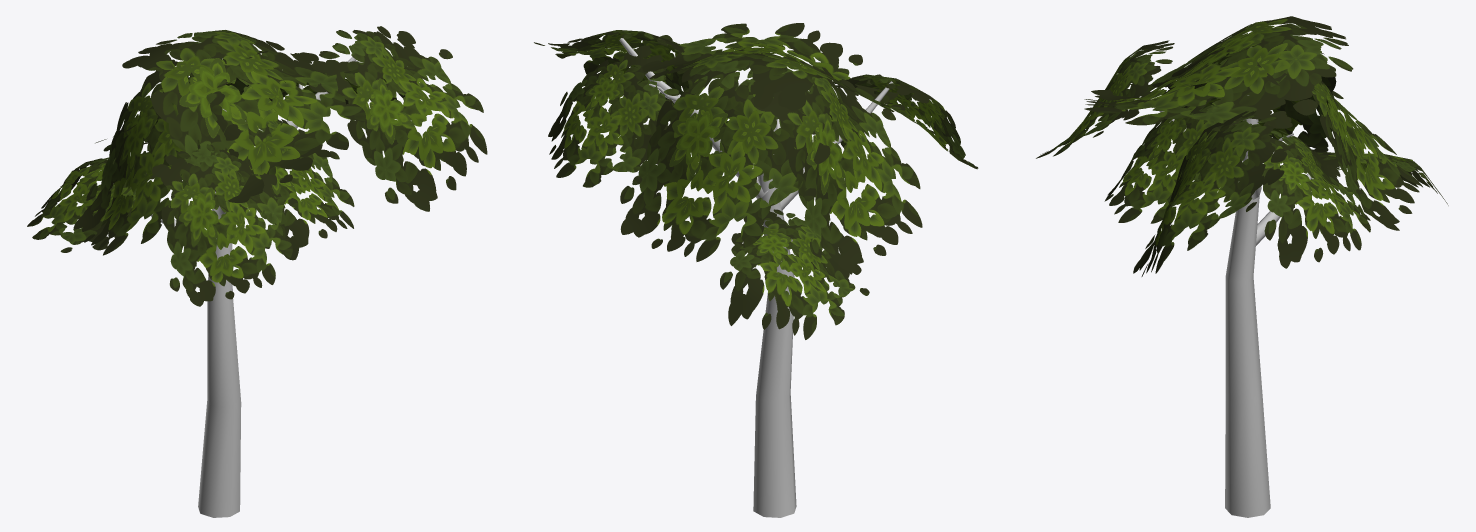
File: Tree1.fbx
3 renders of one model, left to right at view 1: azimuth 30°, elevation 25°; view 2: azimuth 150°, elevation 25°; view 3: azimuth 270°, elevation 25°, orthographic. The views are drawn at different scales.
Visible parts, largest first — view 1: Tree; view 2: Tree; view 3: Tree.
Part boxes in pixels (<box>): Tree: <box>27,26,487,517</box>; Tree: <box>534,23,978,517</box>; Tree: <box>1036,16,1448,517</box>.
Size of the model in its own units: 2.19 by 2.44 by 2.01.
